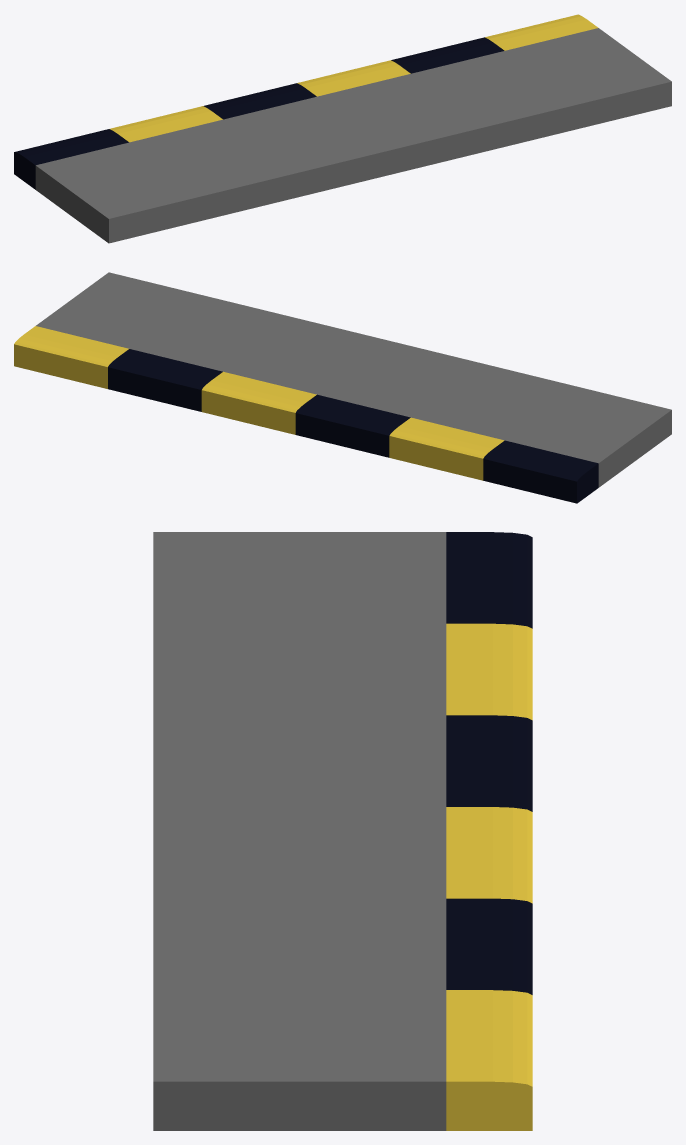
The model's file is sidewalk.fbx.
3 renders of one model, top to bottom at view 1: azimuth 30°, elevation 25°; view 2: azimuth 150°, elevation 25°; view 3: azimuth 270°, elevation 25°, orthographic. The views are drawn at different scales.
Parts seen in each view (by area): view 1: Cube.001; view 2: Cube.001; view 3: Cube.001.
Boxes of the visible parts, x1,y1,x2,y2 form: Cube.001: [14, 14, 671, 243]; Cube.001: [14, 272, 671, 503]; Cube.001: [153, 532, 532, 1130].
Size of the model in its own units: 2400 by 100 by 700.
